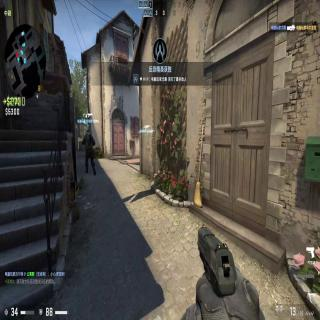CT-Body: (82, 130, 96, 175)
CT-Head: (86, 131, 90, 135)
